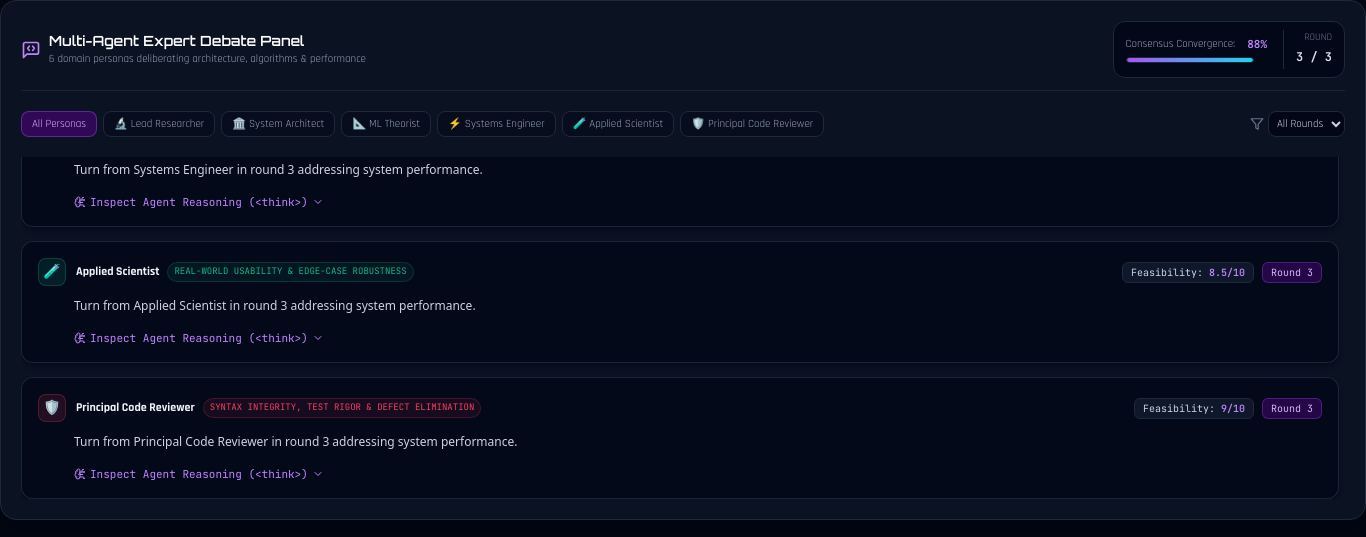
Test: Milestone 3 Challenger Stress Tests: UI, High-Throughput Streaming & State Transitions › Suite 1: High-Throughput Event Floods & Rendering Stress › 1.4: DebateStreamViewer renders 60+ multi-agent turns with persona and round filters
(page scrolled)
Check: the heading "Multi-Agent Expert Debate Panel" is shown, box [49,32,304,49]
Check: the text "88%" is shown, box [1247,36,1267,53]
Click the button "🏛️ System Architect" at (278, 124), box [221,111,336,137]
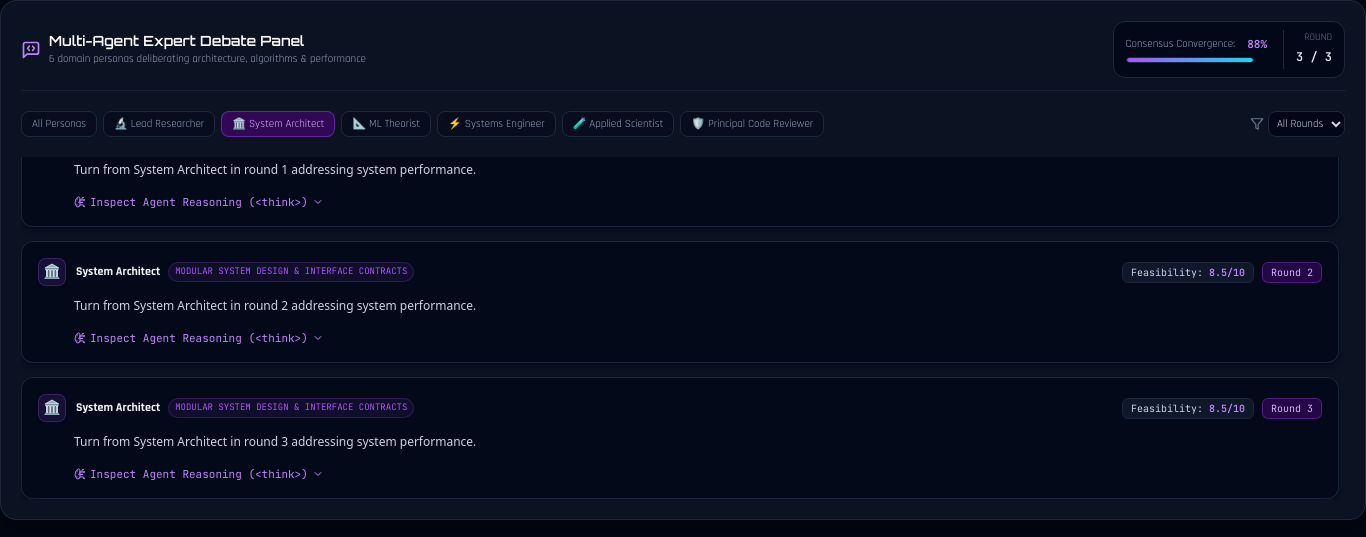
Check: the 1st text "Inspect Agent Reasoning (<think>)" is shown, box [90,194,308,210]
Click the 1st button "Inspect Agent Reasoning (<think>)" at (199, 202), box [74,194,324,210]
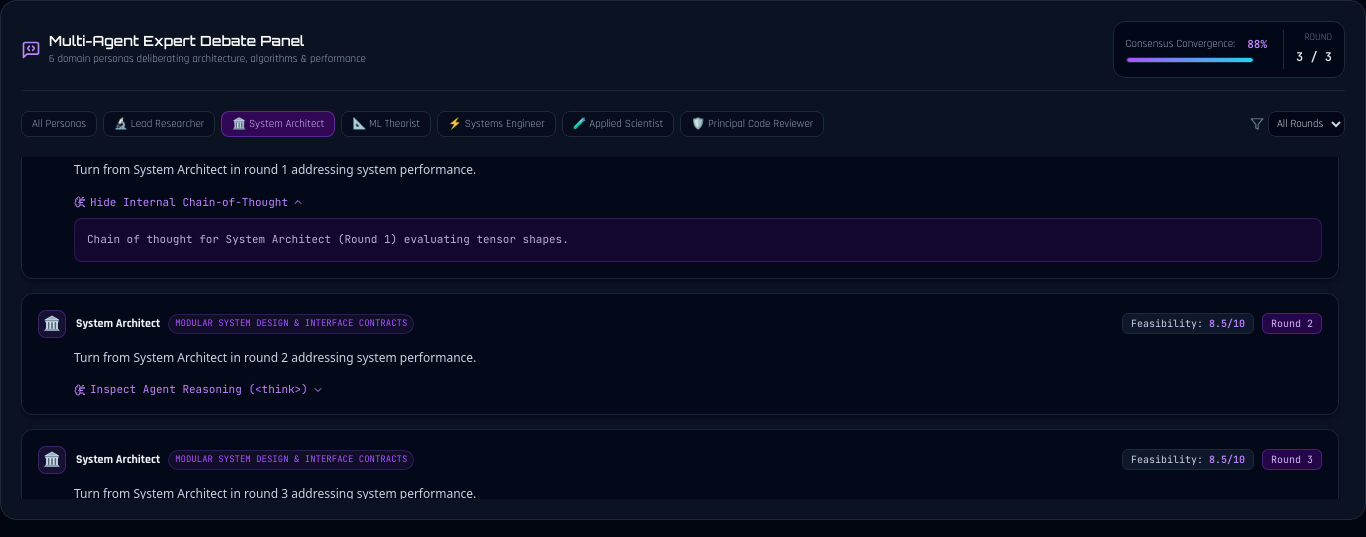
Check: the text "Chain of thought for" is shown, box [87,232,569,246]
